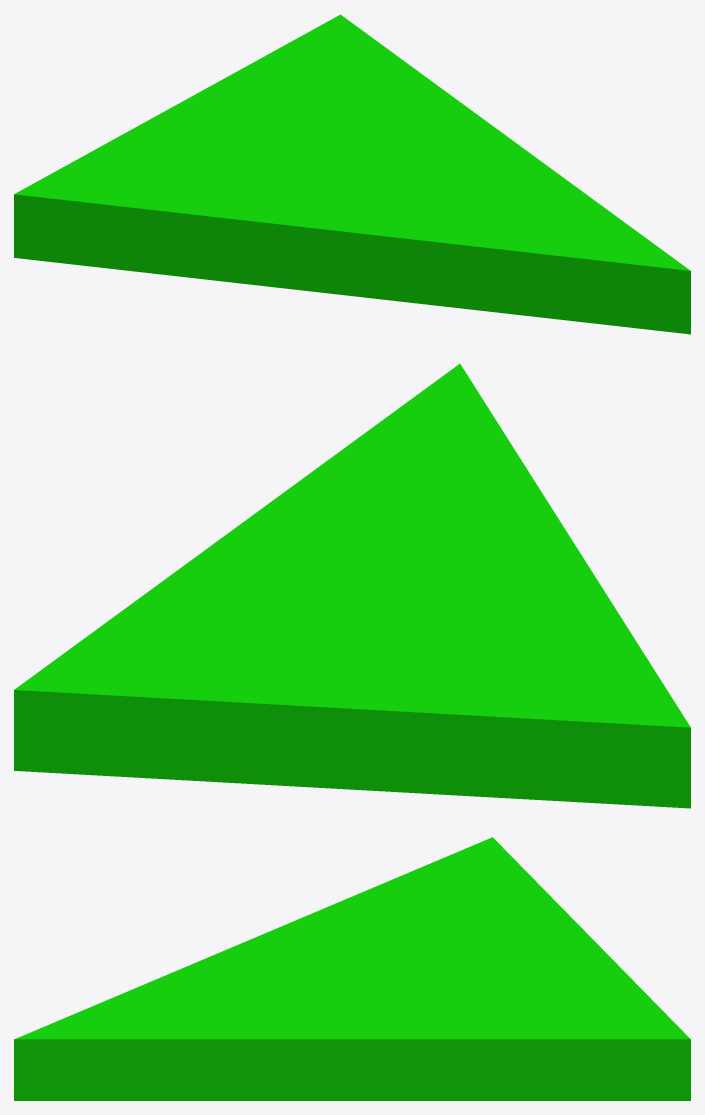
The model's file is Item7.fbx.
The picture shows the model from 3 angles, top to bottom: view 1: azimuth 30°, elevation 25°; view 2: azimuth 150°, elevation 25°; view 3: azimuth 270°, elevation 25°; orthographic projection. The views are drawn at different scales.
Visible parts, largest first — view 1: Cylinder.007; view 2: Cylinder.007; view 3: Cylinder.007.
Boxes of the visible parts, bbox=[...] form: Cylinder.007: bbox=[14, 14, 690, 334]; Cylinder.007: bbox=[14, 364, 690, 808]; Cylinder.007: bbox=[14, 837, 690, 1100].
Size of the model in its own units: 141 by 20 by 200.
